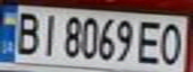0: (78, 14, 100, 61)
6: (97, 15, 118, 62)
8: (60, 12, 84, 60)
9: (112, 16, 139, 63)
B: (9, 8, 42, 56)
E: (136, 17, 166, 65)
I: (36, 10, 60, 57)
O: (157, 18, 187, 68)
